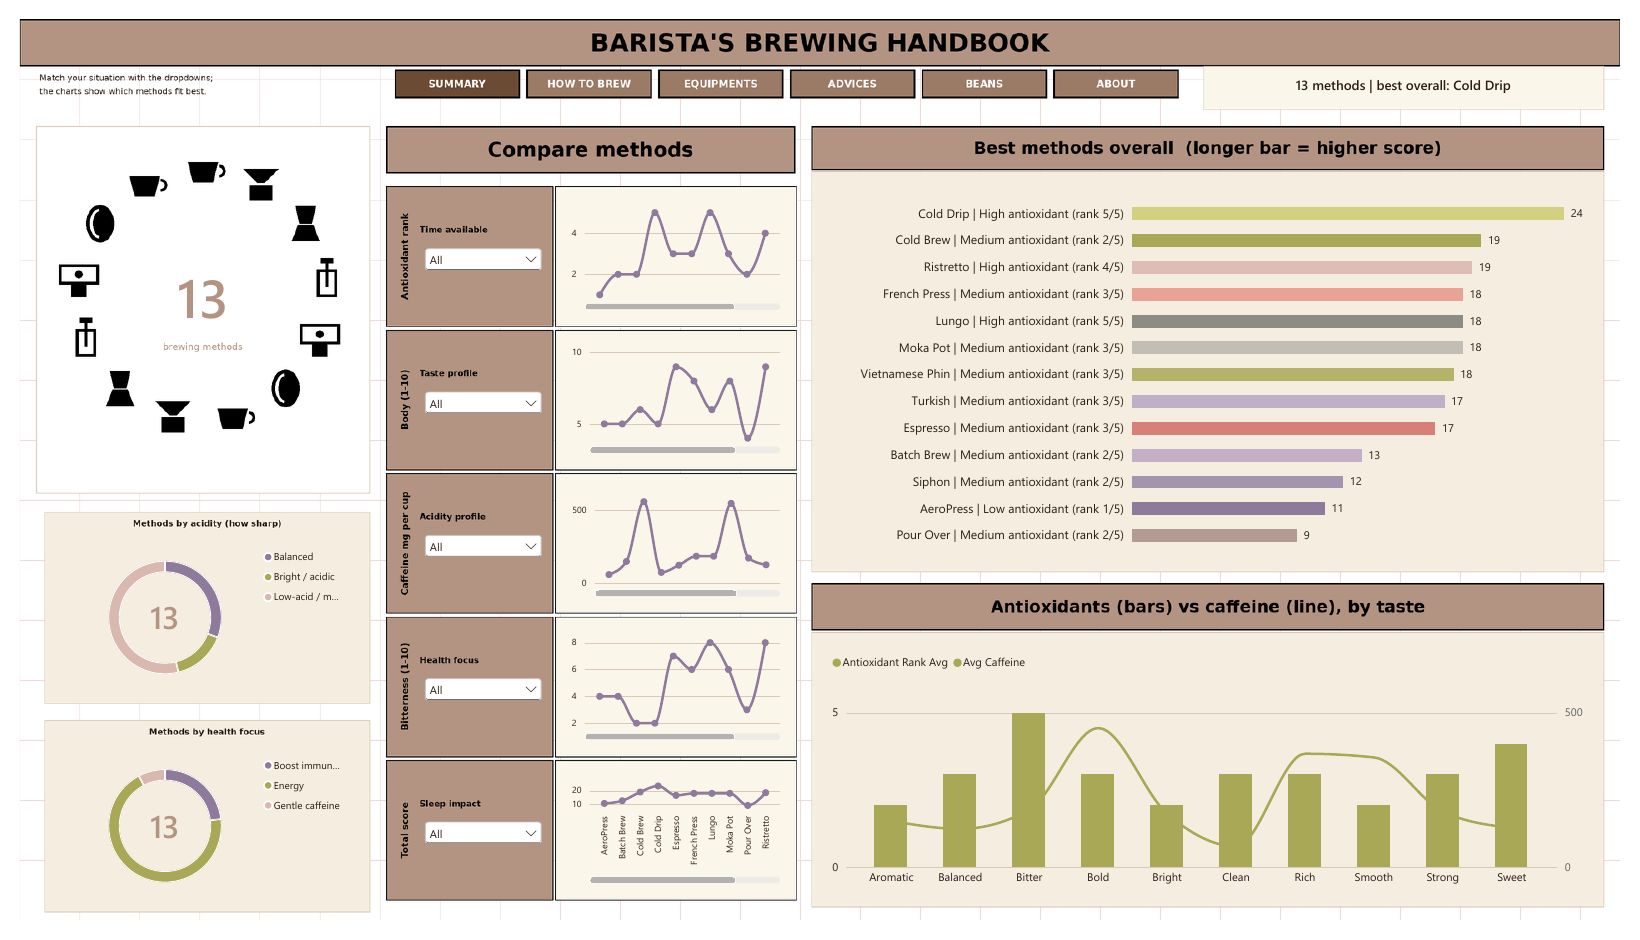

This screenshot's page, from the dashboard's own definition file:
{"tool":"powerbi","page":{"name":"Summary","canvas":[1920,1080],"ordinal":0},"visuals":[{"type":"card","fields":{"Values":["fact_coffee_rating.Brew Methods"]},"box":[120,276,200,110],"z":1010},{"type":"donutChart","fields":{"Category":["dim_brew_method.Acidity Profile"],"Y":["fact_coffee_rating.Brew Methods"]},"box":[40,618,370,200],"z":1020},{"type":"donutChart","fields":{"Category":["dim_brew_method.Health Focus"],"Y":["fact_coffee_rating.Brew Methods"]},"box":[40,868,370,200],"z":1030},{"type":"lineChart","fields":{"Category":["dim_brew_method.method_name"],"Y":["fact_coffee_rating.Antioxidant Rank Avg"]},"box":[646,204,282,160],"z":1050},{"type":"lineChart","fields":{"Category":["dim_brew_method.method_name"],"Y":["fact_coffee_rating.Avg Body Score"]},"box":[646,376,282,160],"z":1070},{"type":"lineChart","fields":{"Category":["dim_brew_method.method_name"],"Y":["fact_coffee_rating.Avg Caffeine"]},"box":[646,548,282,160],"z":1090},{"type":"lineChart","fields":{"Category":["dim_brew_method.method_name"],"Y":["fact_coffee_rating.Avg Bitterness Score"]},"box":[646,720,282,160],"z":1110},{"type":"lineChart","fields":{"Category":["dim_brew_method.method_name"],"Y":["fact_coffee_rating.Total Score"]},"box":[646,892,282,160],"z":1130},{"type":"barChart","fields":{"Category":["dim_brew_method.Method Label"],"Y":["fact_coffee_rating.Total Score"]},"box":[958,190,934,466],"z":1140},{"type":"lineClusteredColumnComboChart","fields":{"Category":["dim_brew_method.Lead Taste"],"Y":["fact_coffee_rating.Antioxidant Rank Avg"],"Y2":["fact_coffee_rating.Avg Caffeine"]},"box":[958,742,934,318],"z":1150},{"type":"card","fields":{"Values":["fact_coffee_rating.Insight Short"]},"box":[1424,56,472,52],"z":1160},{"type":"slicer","fields":{"Values":["dim_brew_method.Time Bucket"]},"box":[480,268,152,32],"z":7003},{"type":"slicer","fields":{"Values":["dim_brew_method.Lead Taste"]},"box":[480,440,152,32],"z":7005},{"type":"slicer","fields":{"Values":["dim_brew_method.Acidity Profile"]},"box":[480,612,152,32],"z":7007},{"type":"slicer","fields":{"Values":["dim_brew_method.Health Focus"]},"box":[480,784,152,32],"z":7009},{"type":"slicer","fields":{"Values":["dim_brew_method.sleep_impact"]},"box":[480,956,152,32],"z":7011},{"type":"actionButton","box":[450,60,150,34],"z":9016},{"type":"actionButton","box":[608,60,150,34],"z":9017},{"type":"actionButton","box":[766,60,150,34],"z":9018},{"type":"actionButton","box":[924,60,150,34],"z":9019},{"type":"actionButton","box":[1082,60,150,34],"z":9020},{"type":"actionButton","box":[1240,60,150,34],"z":9021}]}

Visuals, with their boxes in screenshot pixels (x1, y1, x2, y2), scaled from the page's 1920x1080 canvas onto the 1640x940 screenshot:
card - fact_coffee_rating.Brew Methods: region(102, 240, 273, 336)
donutChart - dim_brew_method.Acidity Profile x fact_coffee_rating.Brew Methods: region(34, 538, 350, 712)
donutChart - dim_brew_method.Health Focus x fact_coffee_rating.Brew Methods: region(34, 755, 350, 930)
lineChart - dim_brew_method.method_name x fact_coffee_rating.Antioxidant Rank Avg: region(552, 178, 793, 317)
lineChart - dim_brew_method.method_name x fact_coffee_rating.Avg Body Score: region(552, 327, 793, 467)
lineChart - dim_brew_method.method_name x fact_coffee_rating.Avg Caffeine: region(552, 477, 793, 616)
lineChart - dim_brew_method.method_name x fact_coffee_rating.Avg Bitterness Score: region(552, 627, 793, 766)
lineChart - dim_brew_method.method_name x fact_coffee_rating.Total Score: region(552, 776, 793, 916)
barChart - dim_brew_method.Method Label x fact_coffee_rating.Total Score: region(818, 165, 1616, 571)
lineClusteredColumnComboChart - dim_brew_method.Lead Taste x fact_coffee_rating.Antioxidant Rank Avg: region(818, 646, 1616, 923)
card - fact_coffee_rating.Insight Short: region(1216, 49, 1620, 94)
slicer - dim_brew_method.Time Bucket: region(410, 233, 540, 261)
slicer - dim_brew_method.Lead Taste: region(410, 383, 540, 411)
slicer - dim_brew_method.Acidity Profile: region(410, 533, 540, 561)
slicer - dim_brew_method.Health Focus: region(410, 682, 540, 710)
slicer - dim_brew_method.sleep_impact: region(410, 832, 540, 860)
actionButton: region(384, 52, 512, 82)
actionButton: region(519, 52, 647, 82)
actionButton: region(654, 52, 782, 82)
actionButton: region(789, 52, 917, 82)
actionButton: region(924, 52, 1052, 82)
actionButton: region(1059, 52, 1187, 82)
